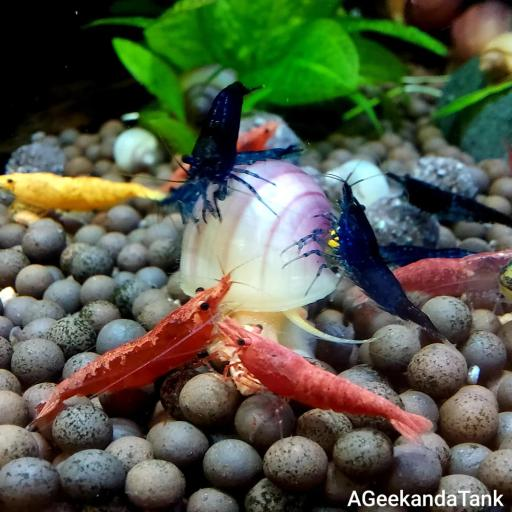Shrimp: (25, 260, 252, 442), (217, 300, 440, 446), (288, 158, 469, 335), (179, 72, 263, 228), (387, 160, 512, 245), (355, 247, 512, 312), (0, 168, 174, 221), (163, 123, 294, 177)
Snail: (174, 160, 386, 350)
